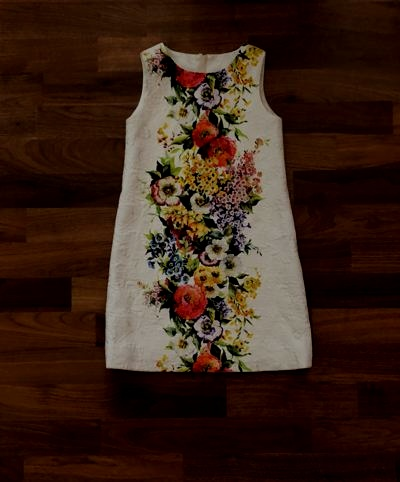Dress: (64, 27, 346, 405)
